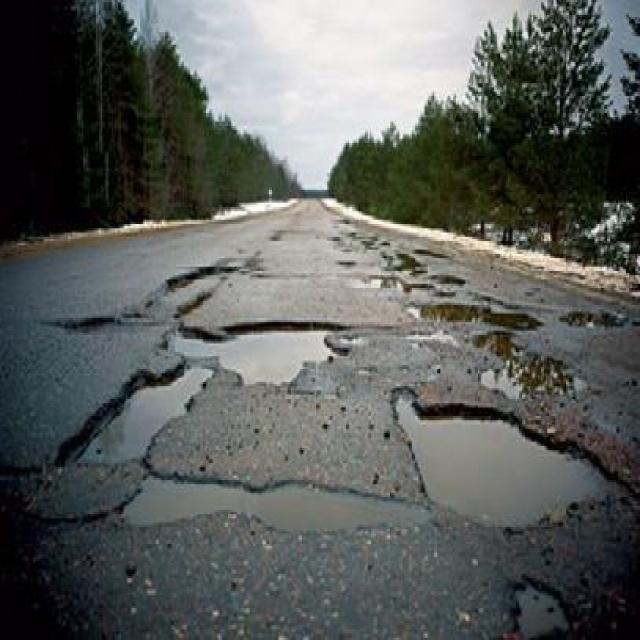Pothole: (388, 381, 640, 537), (118, 466, 428, 541), (52, 362, 218, 469), (165, 324, 352, 392), (472, 327, 585, 400), (148, 259, 239, 323), (404, 296, 544, 328), (511, 570, 574, 639), (58, 311, 121, 336), (559, 306, 630, 328)
